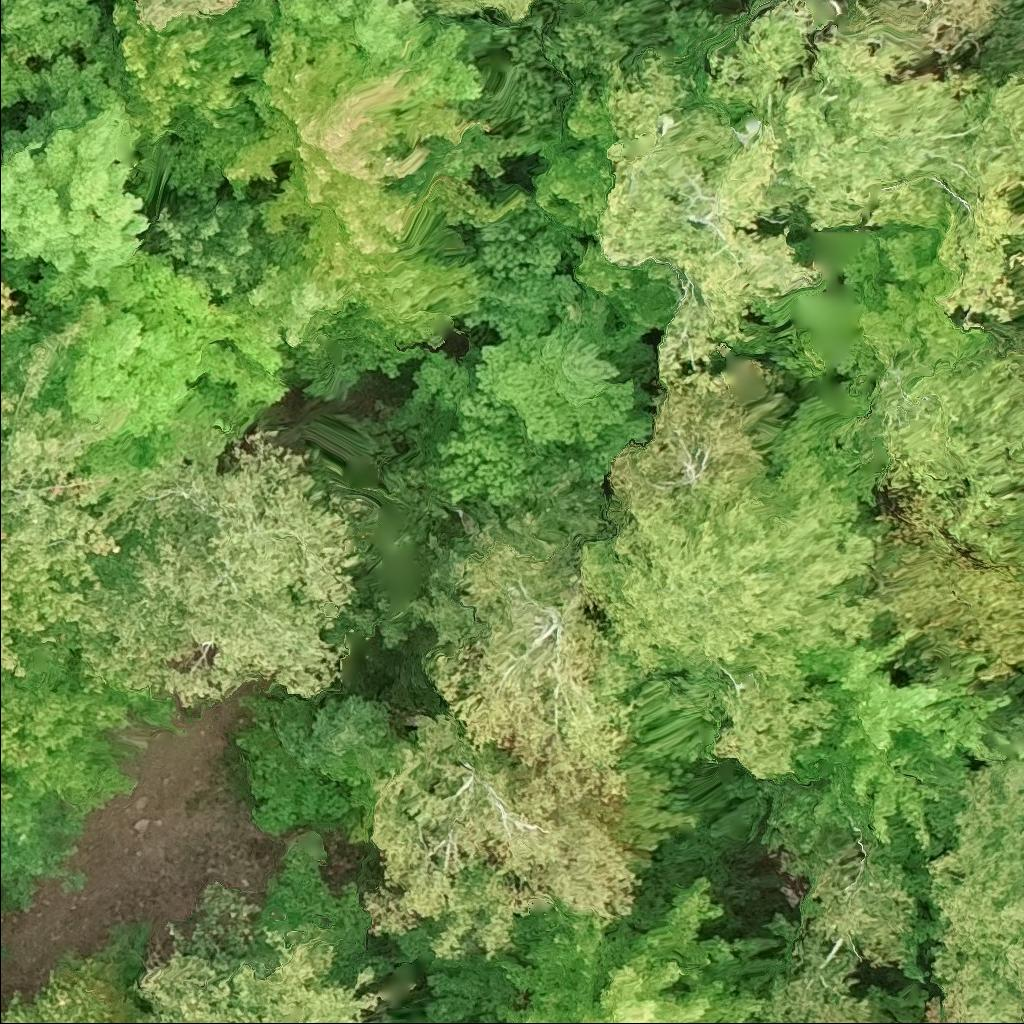crown: (68, 428, 370, 712), (34, 252, 299, 472), (0, 320, 135, 673), (0, 621, 135, 912), (0, 99, 153, 322), (132, 924, 381, 1023), (0, 939, 149, 1023), (0, 278, 44, 388)
